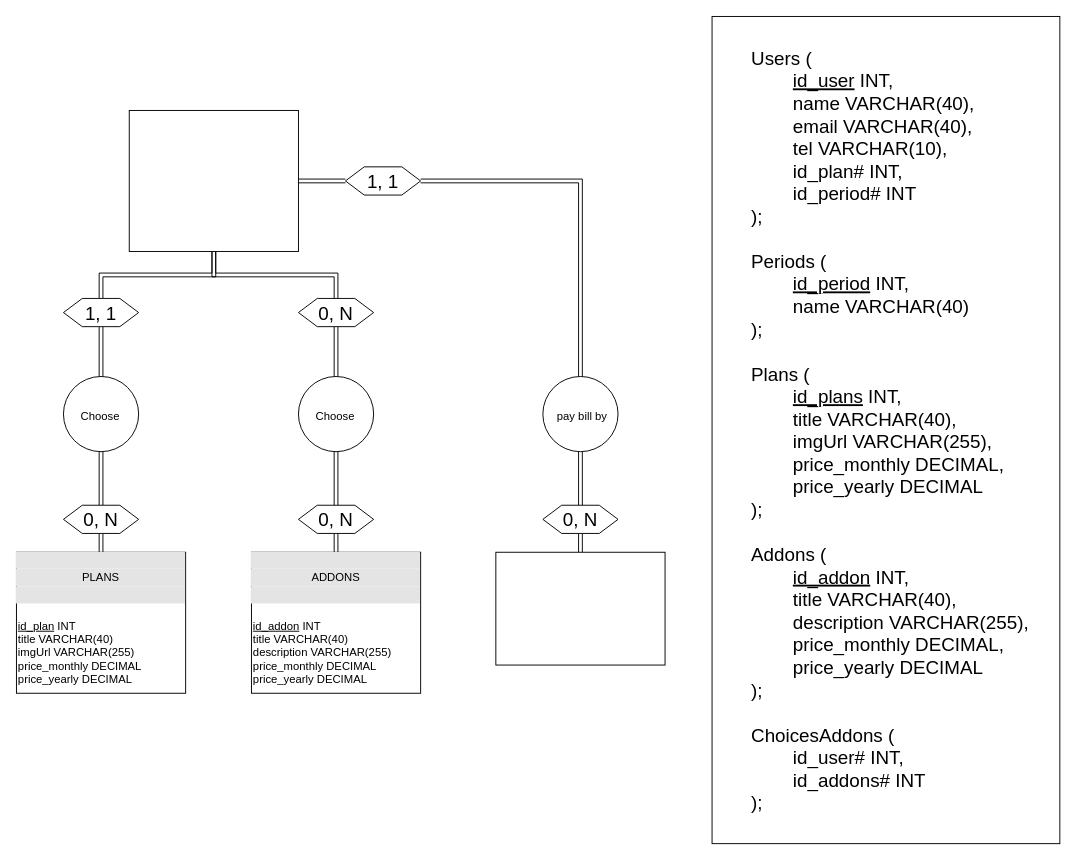
Image size: 1076x860. Some labels were removed from this diagram. The shapes that lost their labels are listed below. From the top down, each one's centre as x and y in pixels, then its label:
At [213,180]: "USERS id_user INT name VARCHAR(40) email VARCHAR(50) tel VARCHAR(10)".
At [580,608]: "PERIODS id_period INT name VARCHAR(40)".
